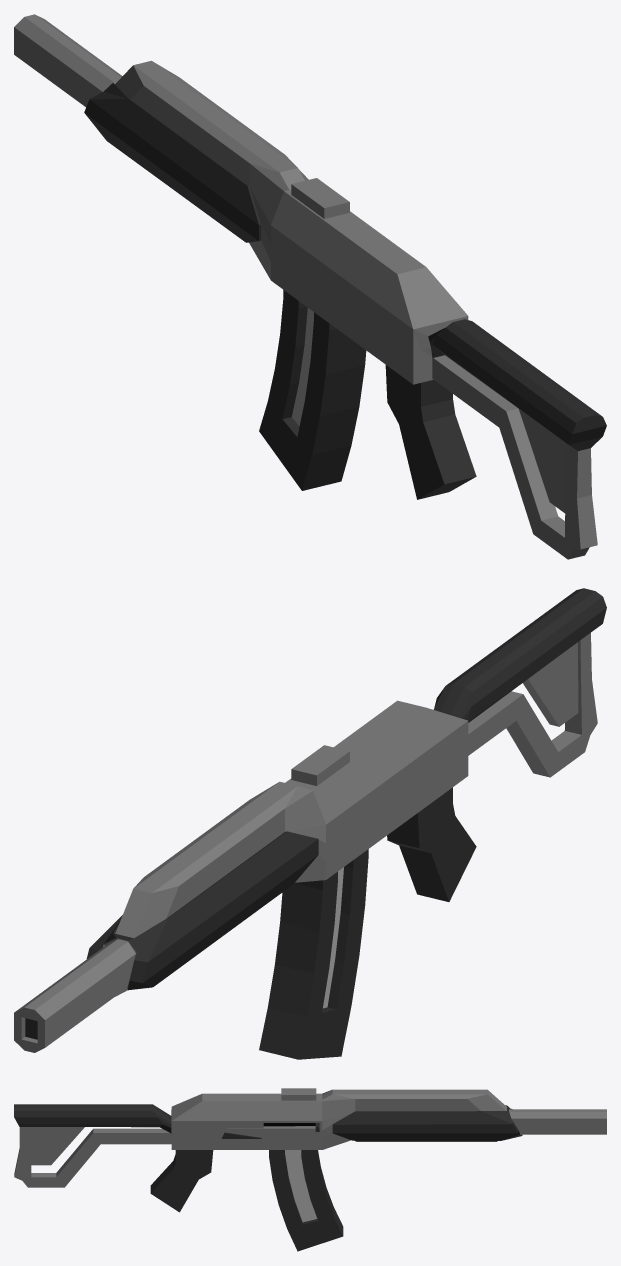
Rendered from ScrapRifle.fbx.
The picture shows the model from 3 angles, top to bottom: view 1: azimuth 30°, elevation 25°; view 2: azimuth 150°, elevation 25°; view 3: azimuth 270°, elevation 25°; orthographic projection. The views are drawn at different scales.
Parts seen in each view (by area): view 1: Gun, Mag; view 2: Gun, Mag; view 3: Gun, Mag.
Boxes of the visible parts, x1=… form: Gun: x1=14, y1=14, x2=606, y2=559; Mag: x1=259, y1=290, x2=366, y2=490; Gun: x1=14, y1=588, x2=606, y2=1052; Mag: x1=259, y1=849, x2=368, y2=1059; Gun: x1=14, y1=1088, x2=606, y2=1212; Mag: x1=269, y1=1150, x2=343, y2=1251.
Bounding box in the file's own units: 11.9 × 46.4 × 161.
